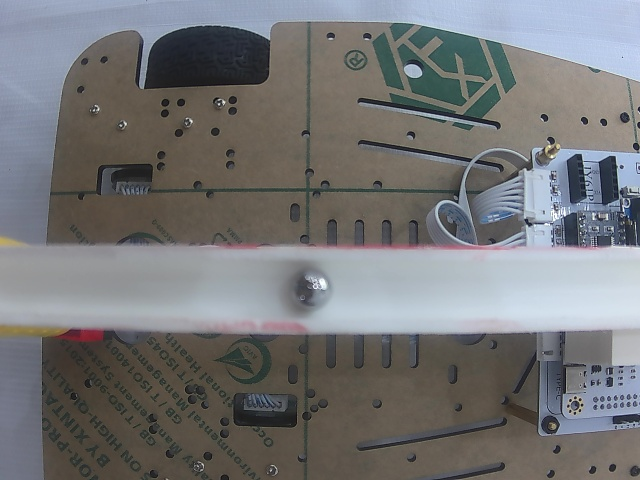steelball: (287, 268, 332, 312)
